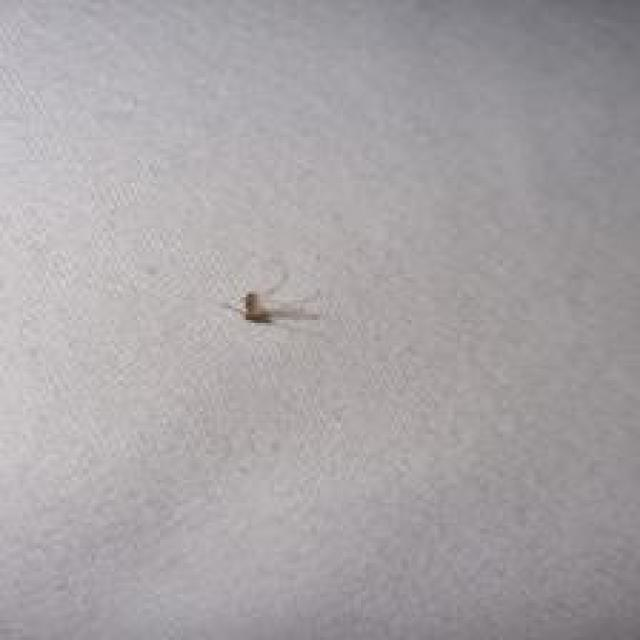Culex: (227, 288, 322, 326)
